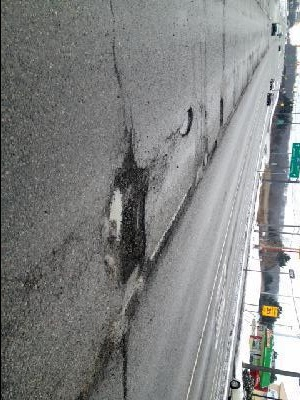pothole: (107, 150, 151, 288), (176, 104, 195, 138), (219, 96, 225, 128)
